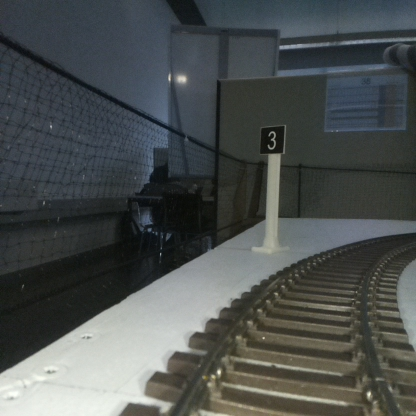black-info-3: (260, 126, 284, 251)
